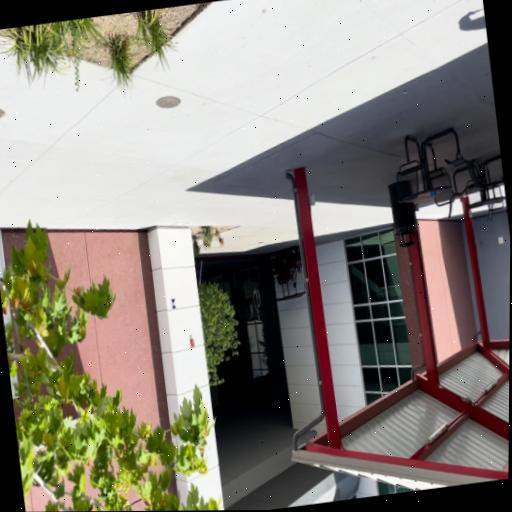target9: (170, 298, 176, 309)
